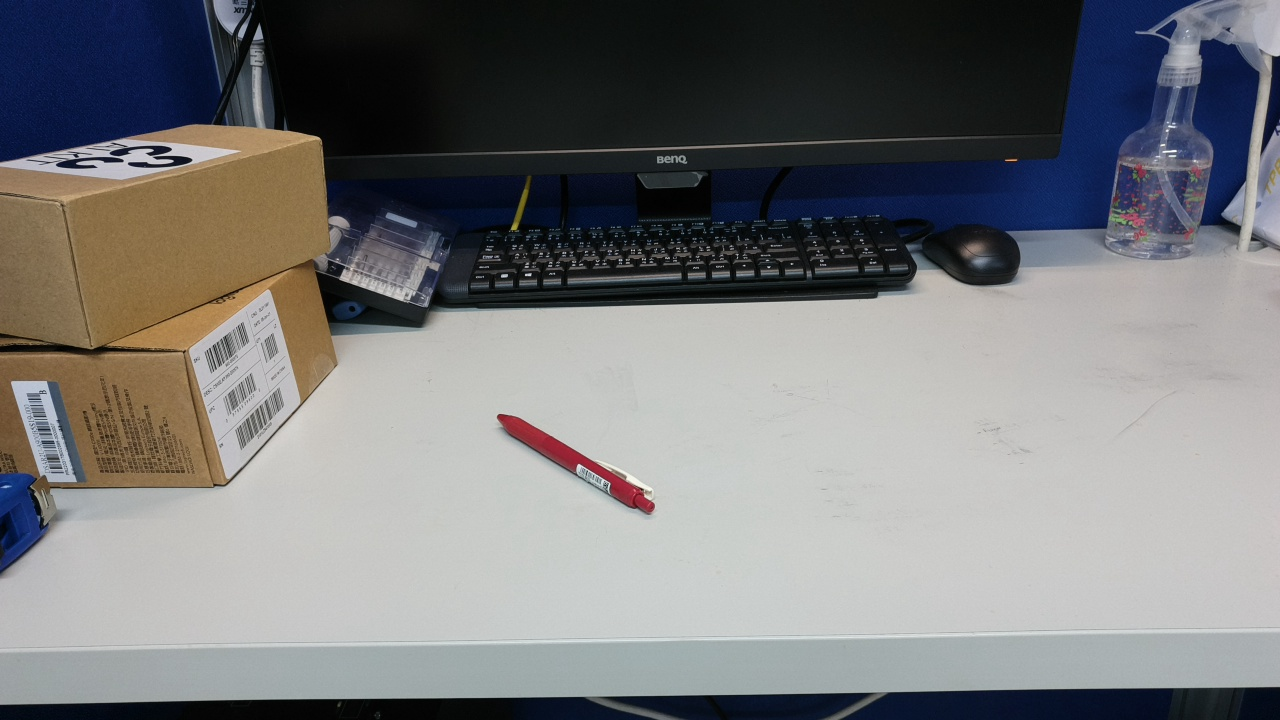blade: (591, 576, 767, 612)
grasp: (410, 532, 595, 640)
